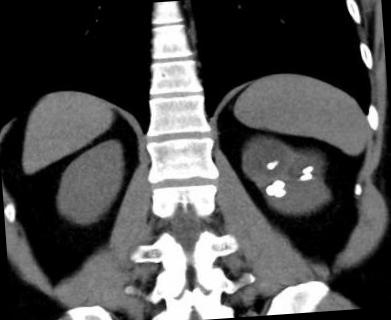Tas_Var: (263, 178, 289, 201), (298, 174, 316, 182), (299, 165, 314, 174), (265, 160, 275, 173), (273, 159, 280, 167)
